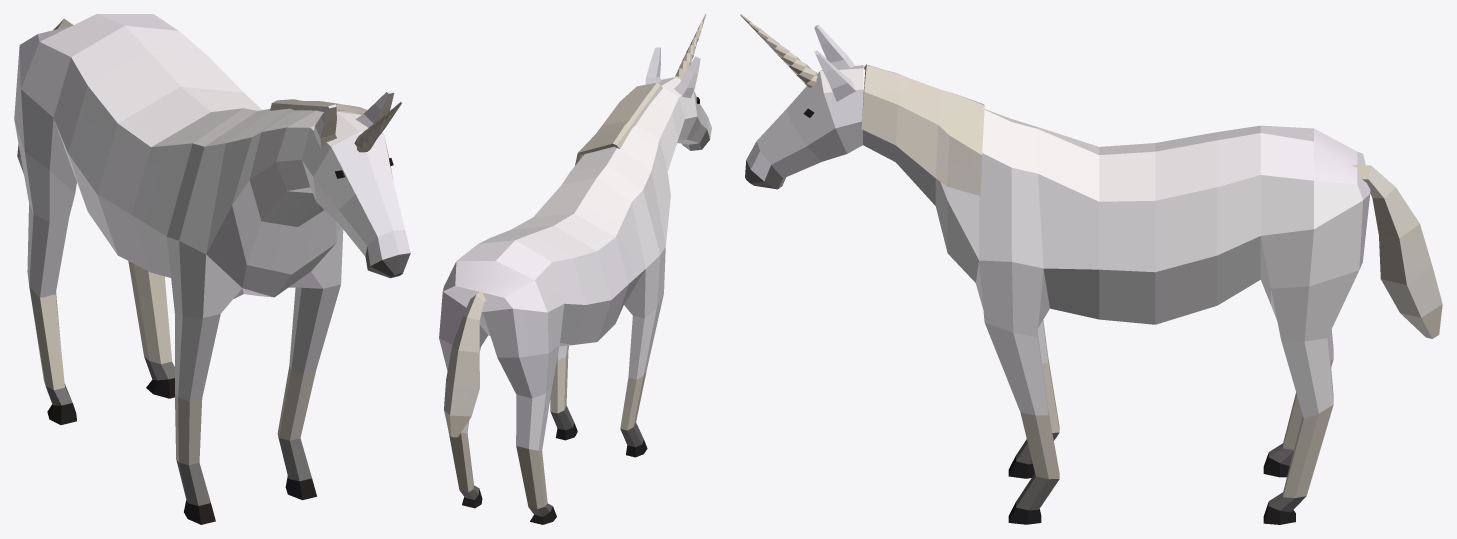
Rendered from animals-unicorn-205.glb.
The picture shows the model from 3 angles, left to right: view 1: azimuth 30°, elevation 25°; view 2: azimuth 150°, elevation 25°; view 3: azimuth 270°, elevation 25°; orthographic projection. The views are drawn at different scales.
Parts seen in each view (by area): view 1: Geo_Unicorn; view 2: Geo_Unicorn; view 3: Geo_Unicorn.
Boxes of the visible parts, left/top/right/bottom form: Geo_Unicorn: left=14, top=14, right=410, bottom=524; Geo_Unicorn: left=439, top=14, right=711, bottom=524; Geo_Unicorn: left=740, top=14, right=1442, bottom=524.
Bounding box in the file's own units: 73.07 × 214 × 283.
Materials: 1 (1 with a texture image).
